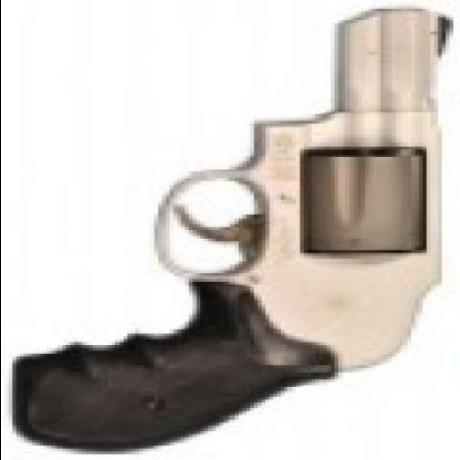weapon: (14, 3, 460, 457)
